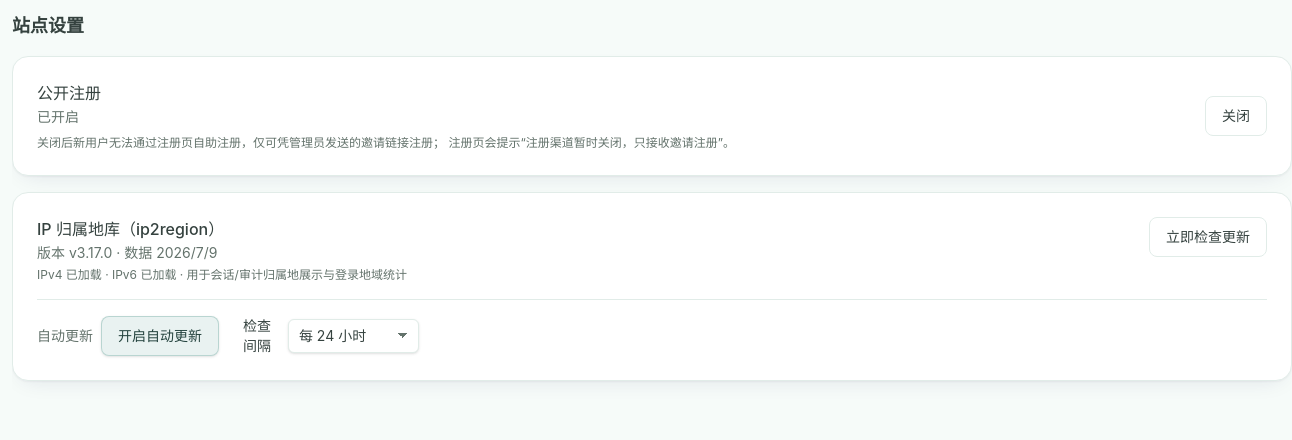
Test: AdminSettingsPanel › 点击立即检查更新进入后台下载并显示实时进度
The image size is (1292, 440).
Expected: the text "版本 v3.17.0 · 数据 2026/7/9" is shown, [37,244,218,261]
Click the button "立即检查更新".
click(1208, 237)  # box [1149,217,1267,257]
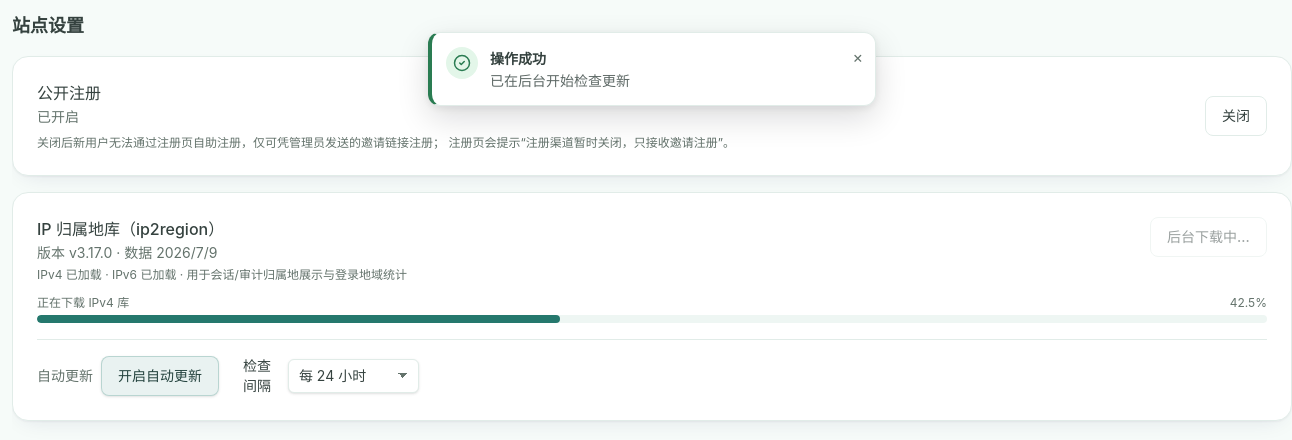
Expected: the button "后台下载中…" is shown, [1150,217,1267,257]
Expected: the text "42.5%" is shown, [1230,295,1267,311]
Expected: the text "正在下载 IPv4 库" is shown, [37,295,129,311]
